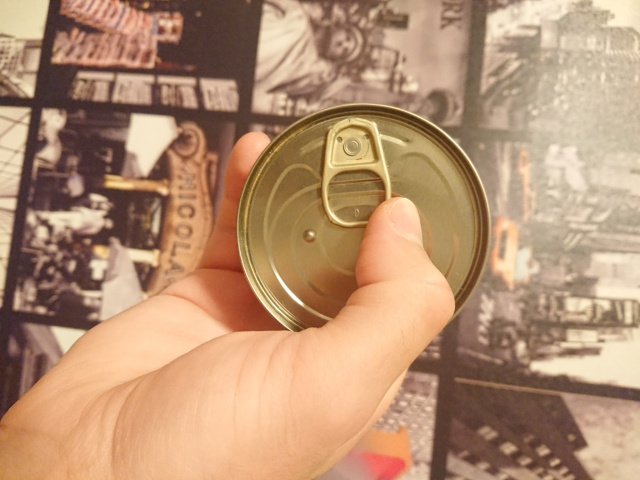Podravka Luncheon Meat 150g: (232, 98, 494, 360)
